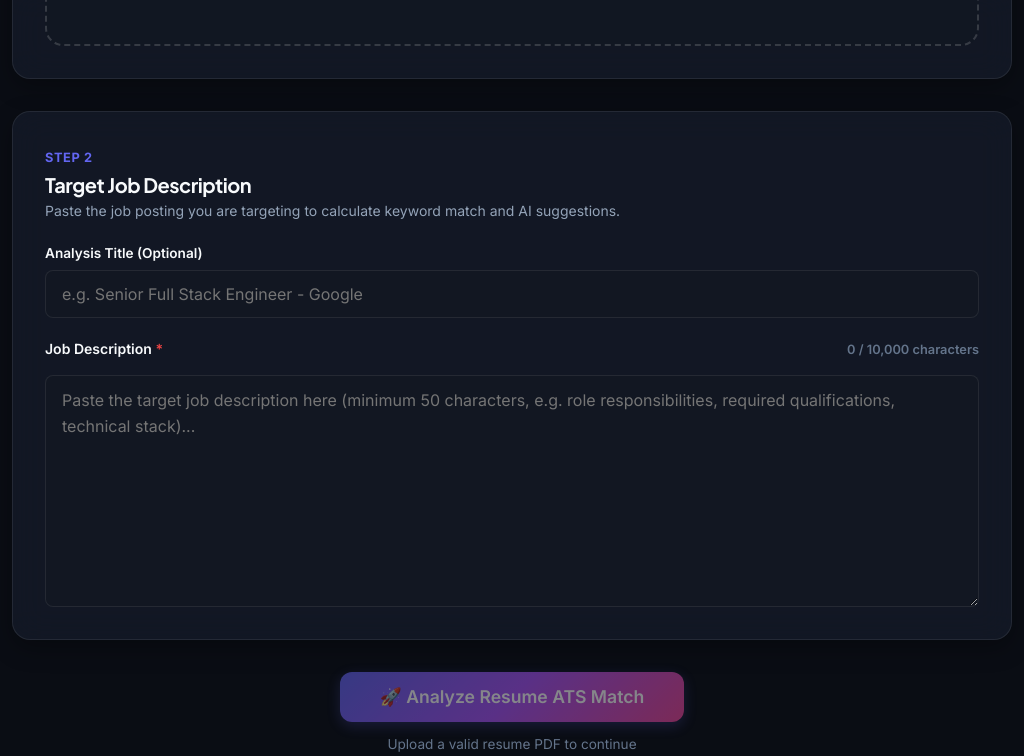
Test: Milestone 5 - Dashboard & Analysis Flow (UI-1, UI-2, UI-3) › UI-1 & UI-2: enforces JD length limits, updates live counter, and disables Analyze button
(page scrolled)
Expected: the button "🚀 Analyze Resume ATS Match" is disabled, [340, 672, 684, 722]
Expected: the text "0 / 10,000 characters" is shown, [847, 340, 979, 360]
# Type text under 50 characters
Replace the text in the text box with placeholder "Paste the target job description here" with "Short JD" at (512, 491), box [45, 375, 979, 607]
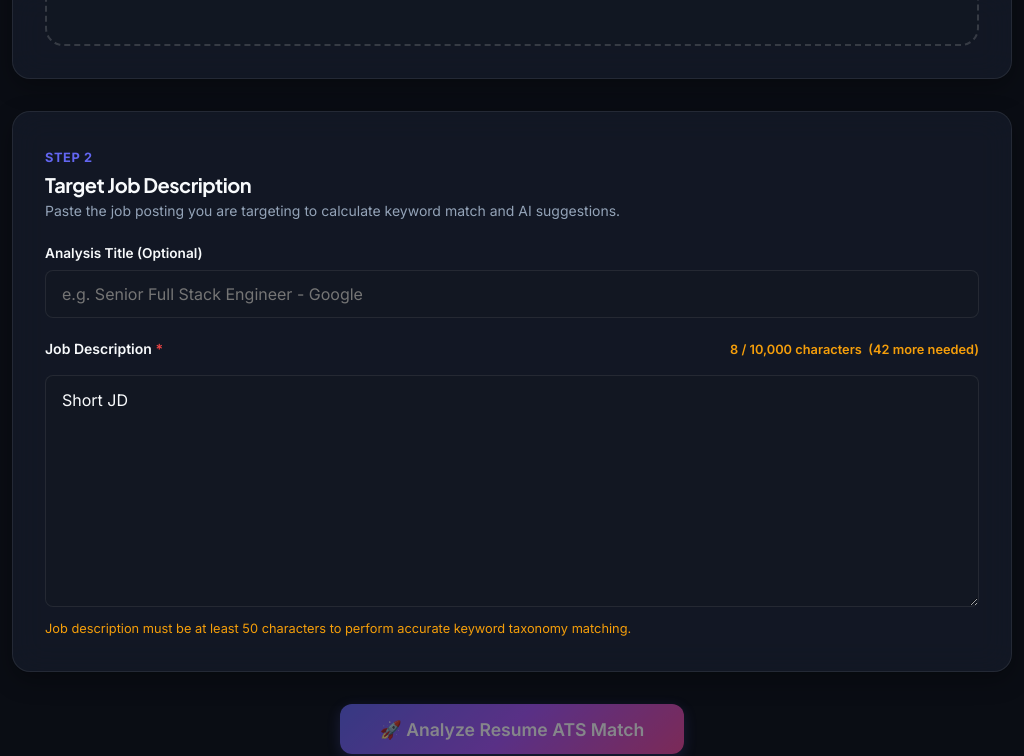
Expected: the button "🚀 Analyze Resume ATS Match" is disabled, [340, 704, 684, 754]
Expected: the text "8 / 10,000 characters(42 more needed)" is shown, [730, 340, 979, 360]
Expected: the text "(42 more needed)" is shown, [868, 342, 979, 357]
Replace the text in the text box with placeholder "Paste the target job description here" with "We are seeking a skilled Full Stack Engineer proficient in React, Node.js, TypeScript, PostgreSQL, and AWS cloud architecture. Must have 3+ years experience building scalable systems." at (512, 491), box [45, 375, 979, 607]
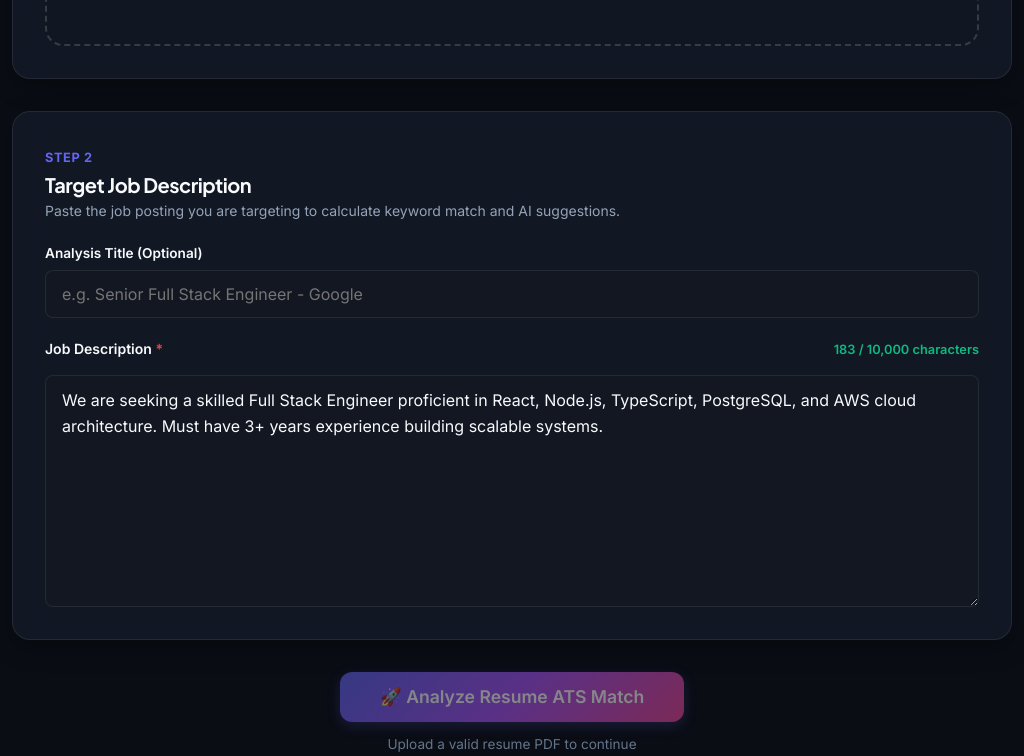
Expected: the button "🚀 Analyze Resume ATS Match" is disabled, [340, 672, 684, 722]
Expected: the text "more needed" is gone
